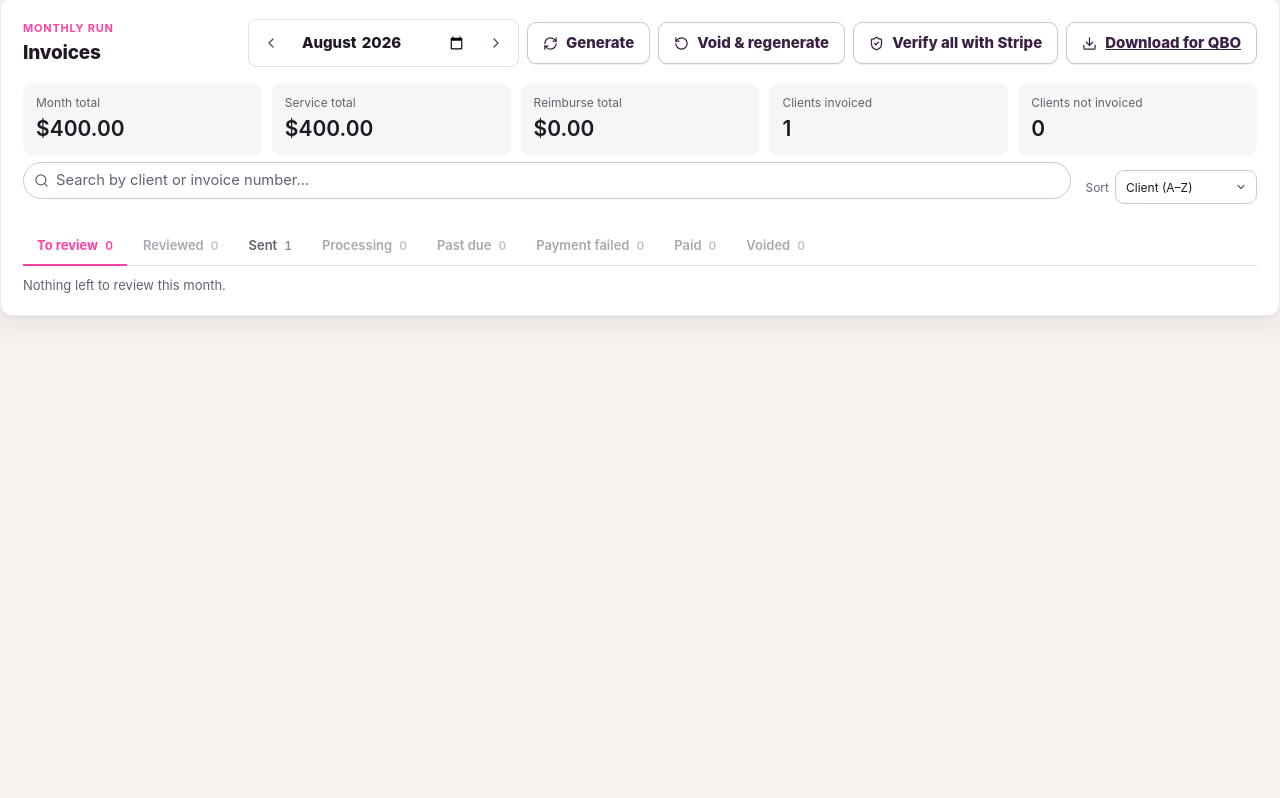
the delivery badge in the month run › says Delivered next to the send it belongs to
The image size is (1280, 798).
Click the tab "Sent 1" at [270, 247], box [234, 227, 306, 266]
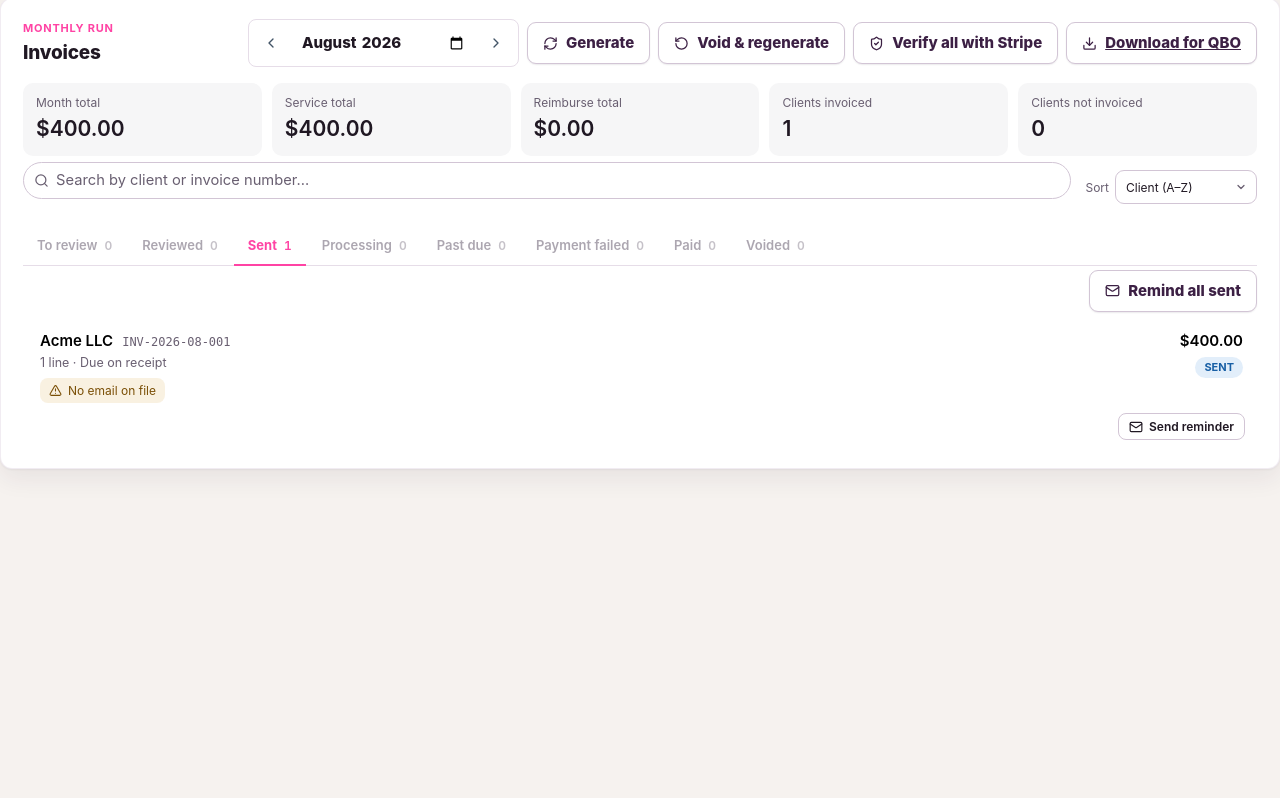
Click the text "INV-2026-08-001" at [176, 342], box [122, 334, 231, 351]
(page scrolled)
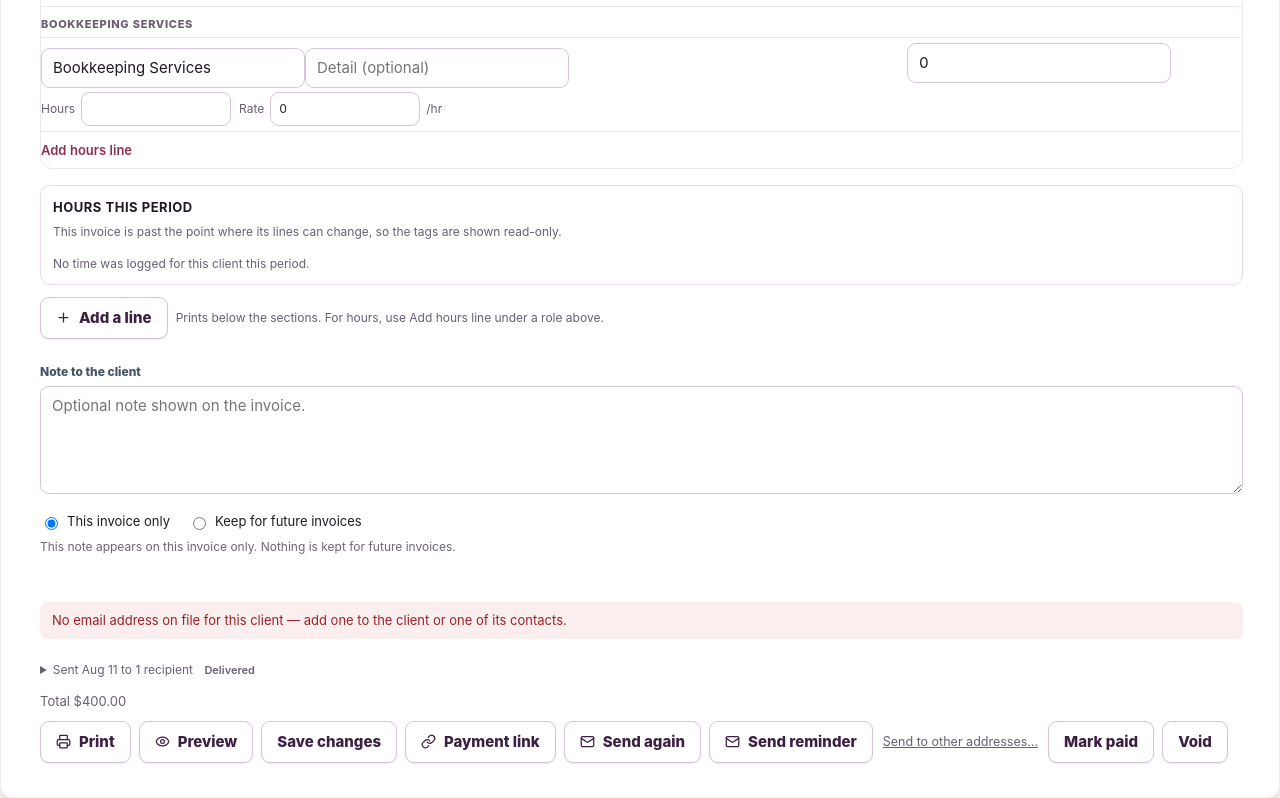
Expected: the heading "Sent Aug 11 to 1 recipient Delivered" is shown, [53, 662, 255, 677]
Expected: the text "Delivered" is shown, [204, 663, 255, 677]
